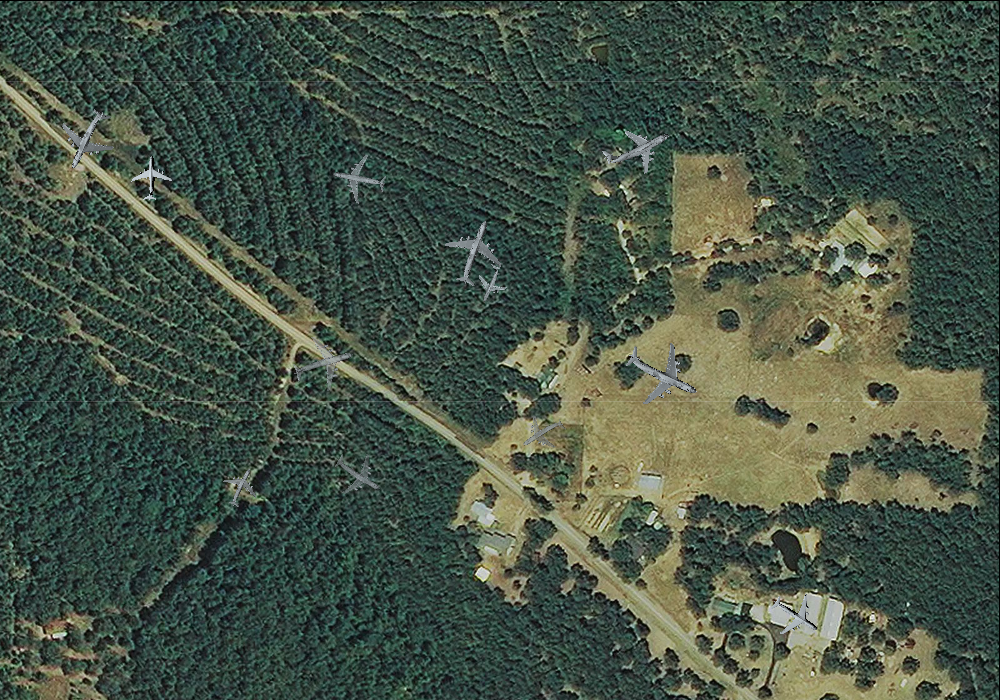plane: (612, 324, 713, 423), (592, 105, 681, 189), (433, 209, 516, 295), (46, 97, 128, 181), (285, 326, 361, 400), (323, 439, 393, 509), (761, 581, 830, 650), (512, 403, 574, 464), (328, 149, 390, 208), (214, 460, 267, 514), (466, 258, 514, 308), (129, 155, 172, 200)
